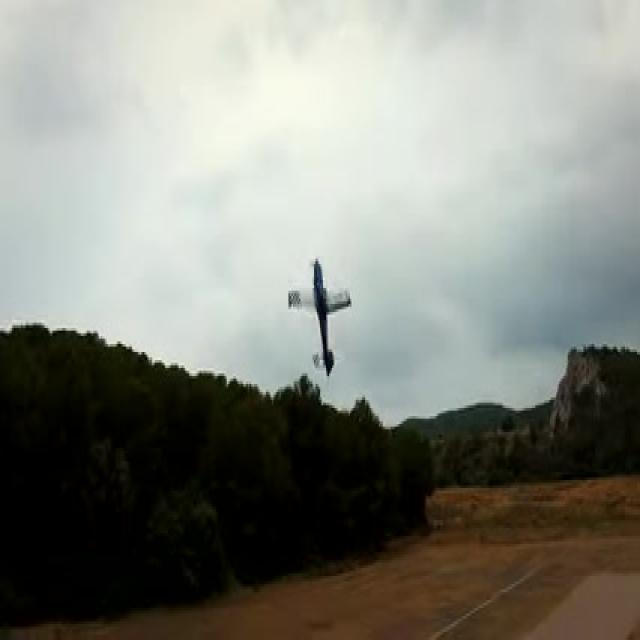iha: (319, 288, 321, 347)
